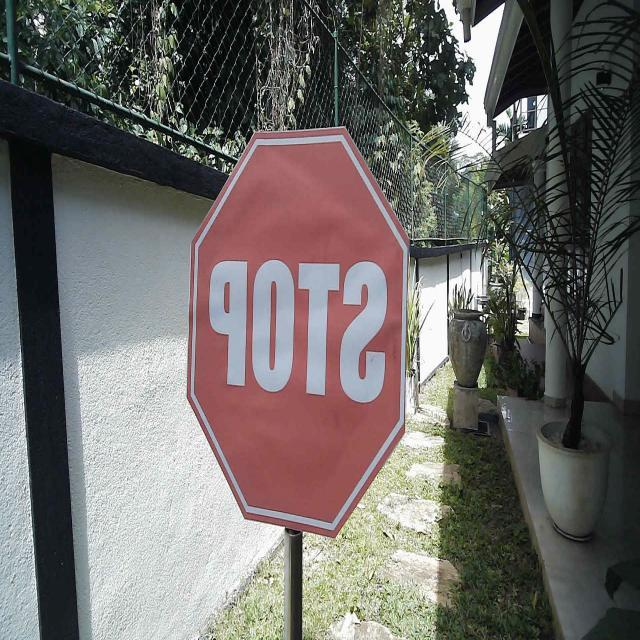stop: (185, 123, 411, 542)
